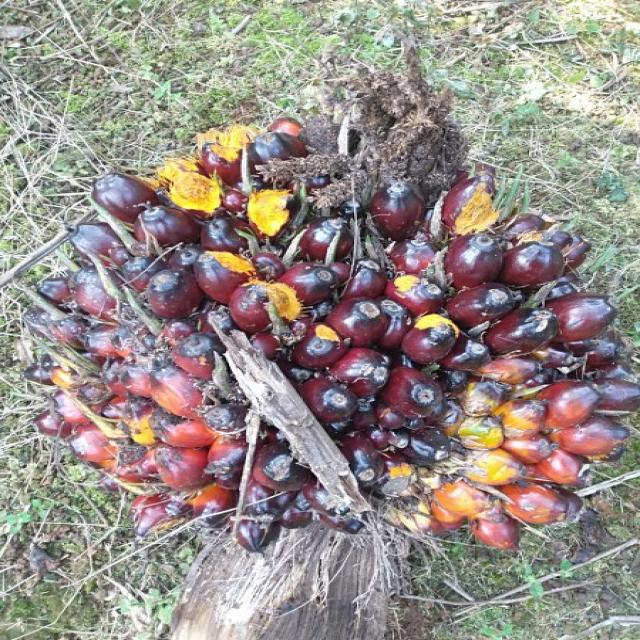fraksi 1: (7, 80, 640, 580)
